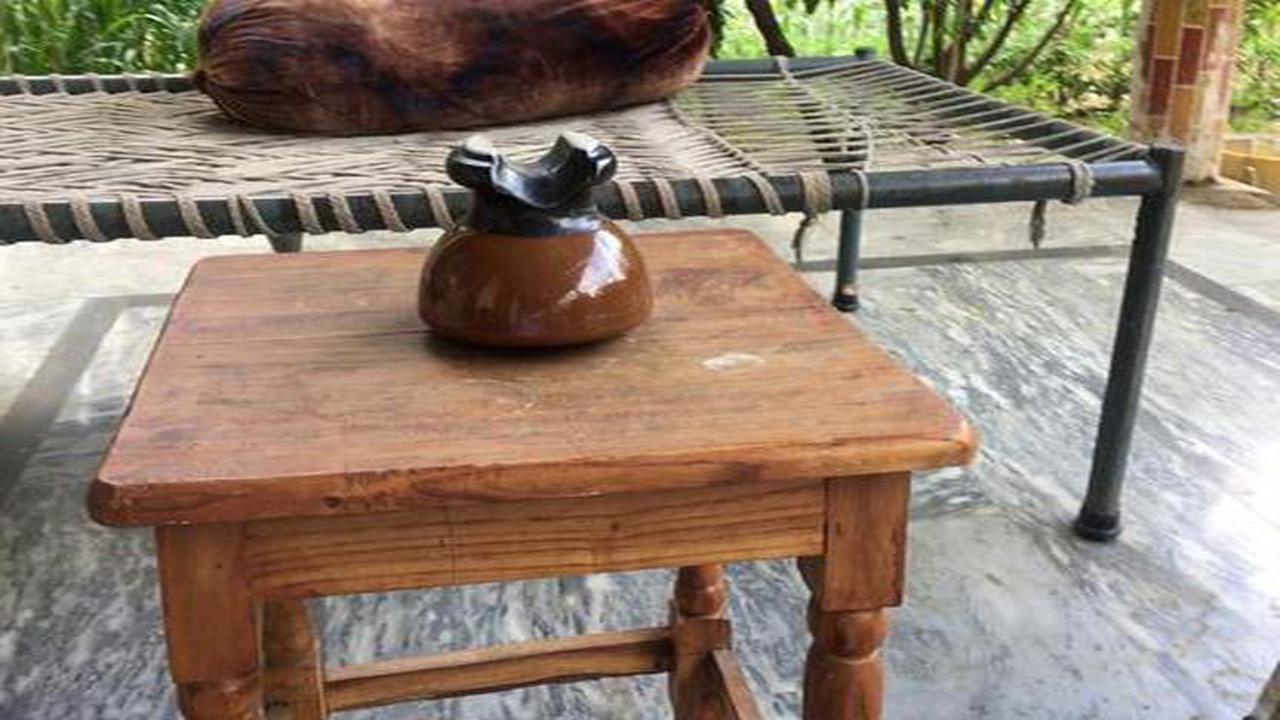insulator_pin: (391, 113, 690, 373)
